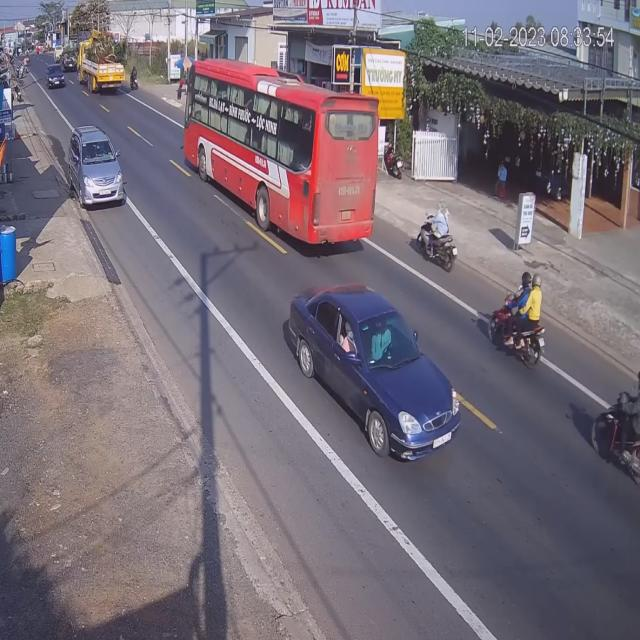bus: (183, 59, 380, 258)
car: (288, 286, 464, 461), (67, 126, 126, 211), (46, 62, 64, 89)
motorbike: (491, 273, 546, 374), (597, 373, 640, 497), (414, 204, 458, 271), (132, 67, 139, 92)
truck: (79, 36, 123, 94)
